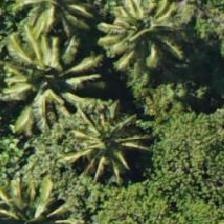coconut_tree: (54, 96, 144, 186), (0, 42, 84, 132), (101, 0, 191, 69), (0, 0, 89, 49), (0, 169, 75, 223)
